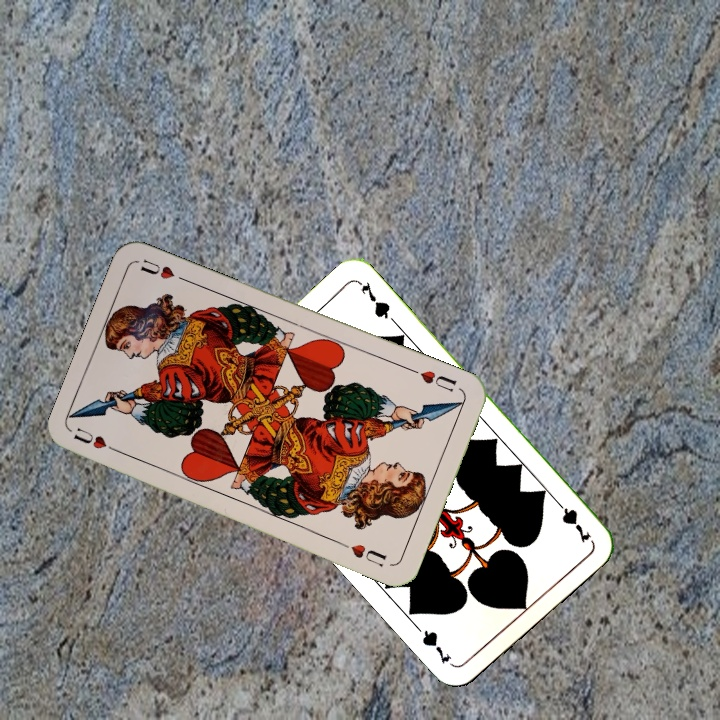G7: (549, 494, 595, 546)
HU: (69, 424, 126, 457), (406, 364, 459, 395)
